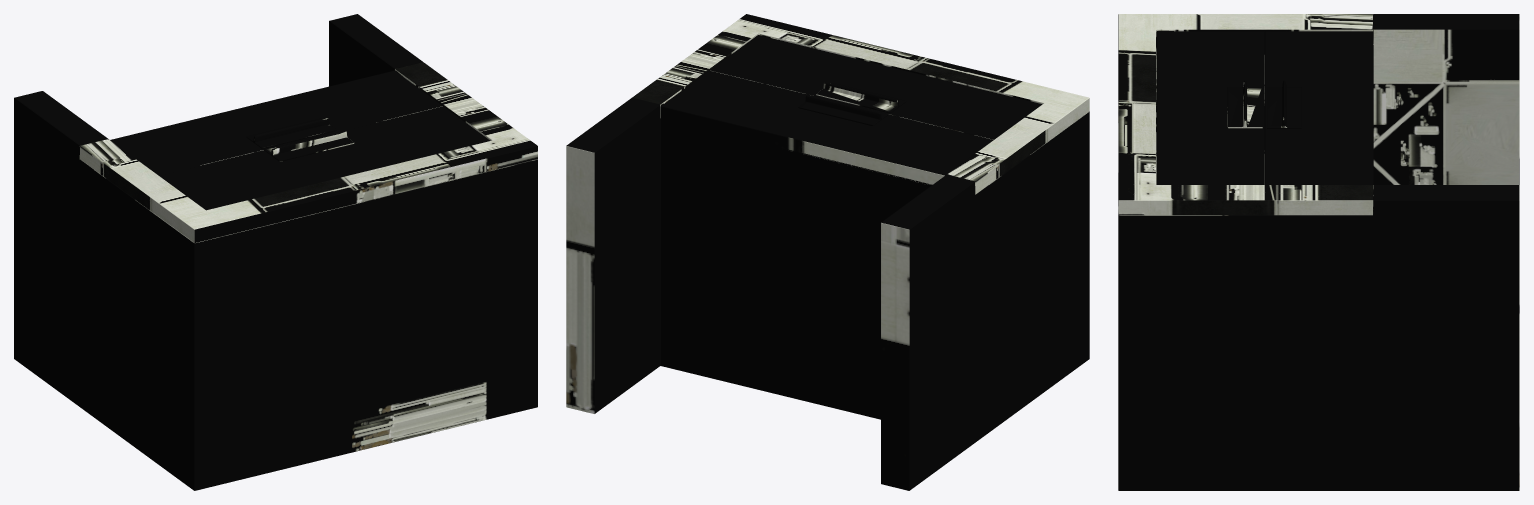
3 renders of one model, left to right at view 1: azimuth 30°, elevation 25°; view 2: azimuth 150°, elevation 25°; view 3: azimuth 270°, elevation 25°, orthographic. The views are drawn at different scales.
Bounding box in the file's own units: 0.55 × 0.4096 × 0.5.
